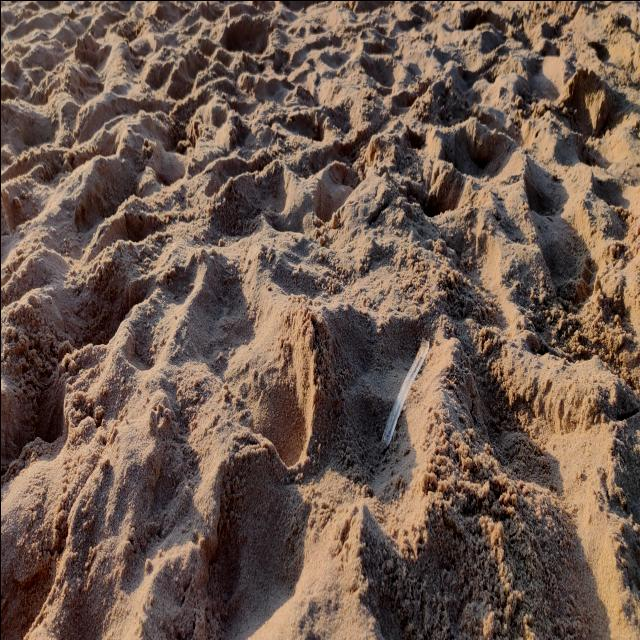Plastic film: (381, 336, 428, 447)
